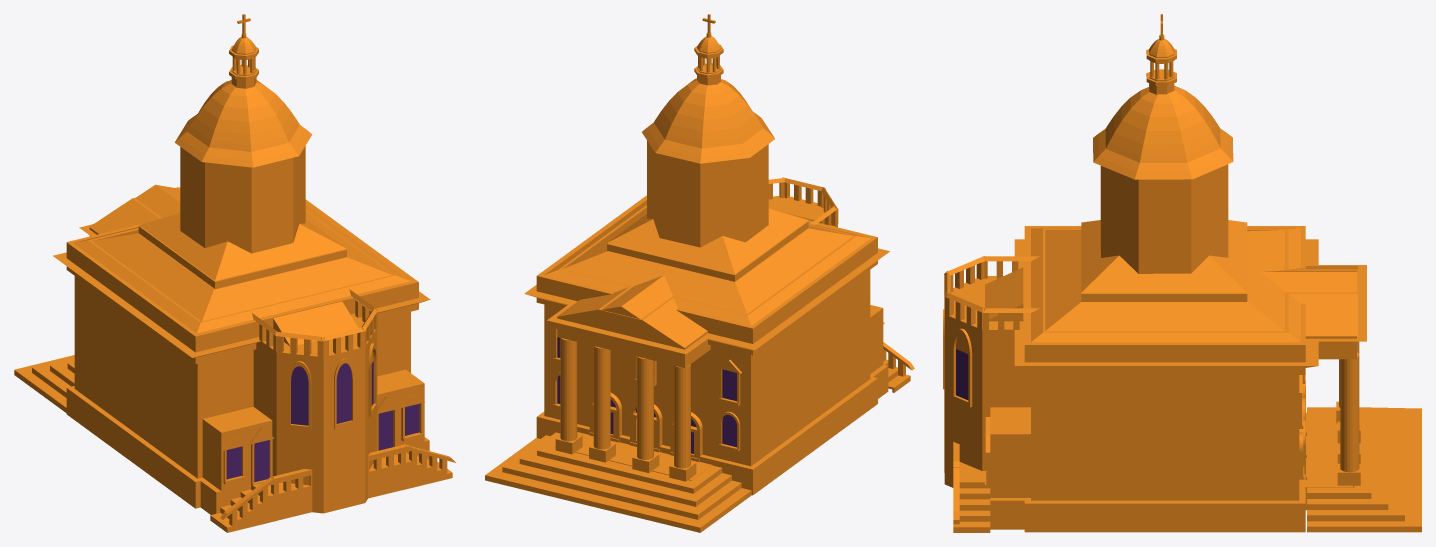
Rendered from Garnizownowy.obj.
3 renders of one model, left to right at view 1: azimuth 30°, elevation 25°; view 2: azimuth 150°, elevation 25°; view 3: azimuth 270°, elevation 25°, orthographic. The views are drawn at different scales.
Visible parts, largest first — view 1: Garnizonowy_obj_0; view 2: Garnizonowy_obj_0; view 3: Garnizonowy_obj_0.
Part boxes in pixels (x1,y1,x2,y2): Garnizonowy_obj_0: (14, 14, 455, 532); Garnizonowy_obj_0: (485, 14, 914, 532); Garnizonowy_obj_0: (943, 14, 1421, 532).
Size of the model in its own units: 26.75 by 45.08 by 42.69.
